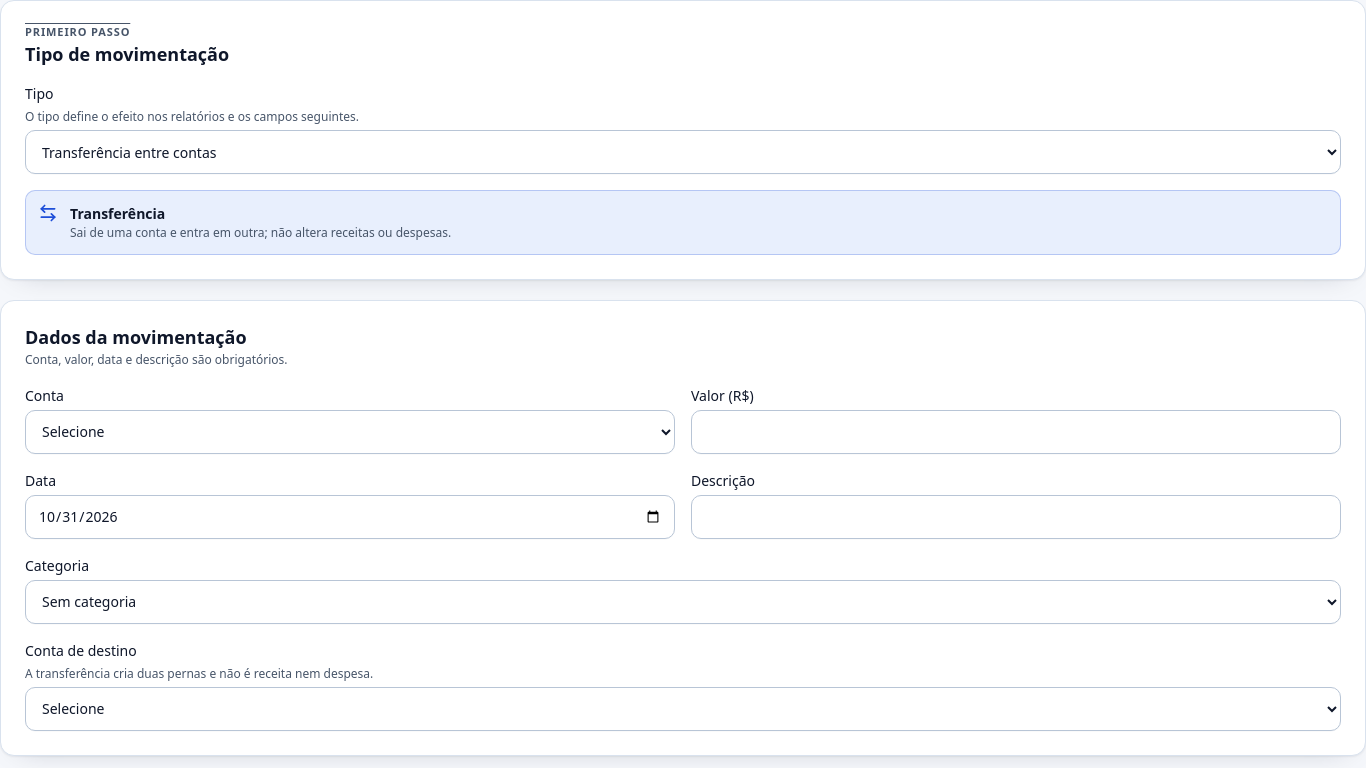
Scenario: formulário de lançamento manual › mostra o efeito esperado e revela campos condicionais
expect the text "Transferência" is shown: met, box [70,204,165,223]
expect the text "não altera receitas ou despesas" is shown: met, box [70,224,451,241]
Select "Ajuste" in the dropdown labelled "Tipo" at (683, 152), box [25,130,1341,174]
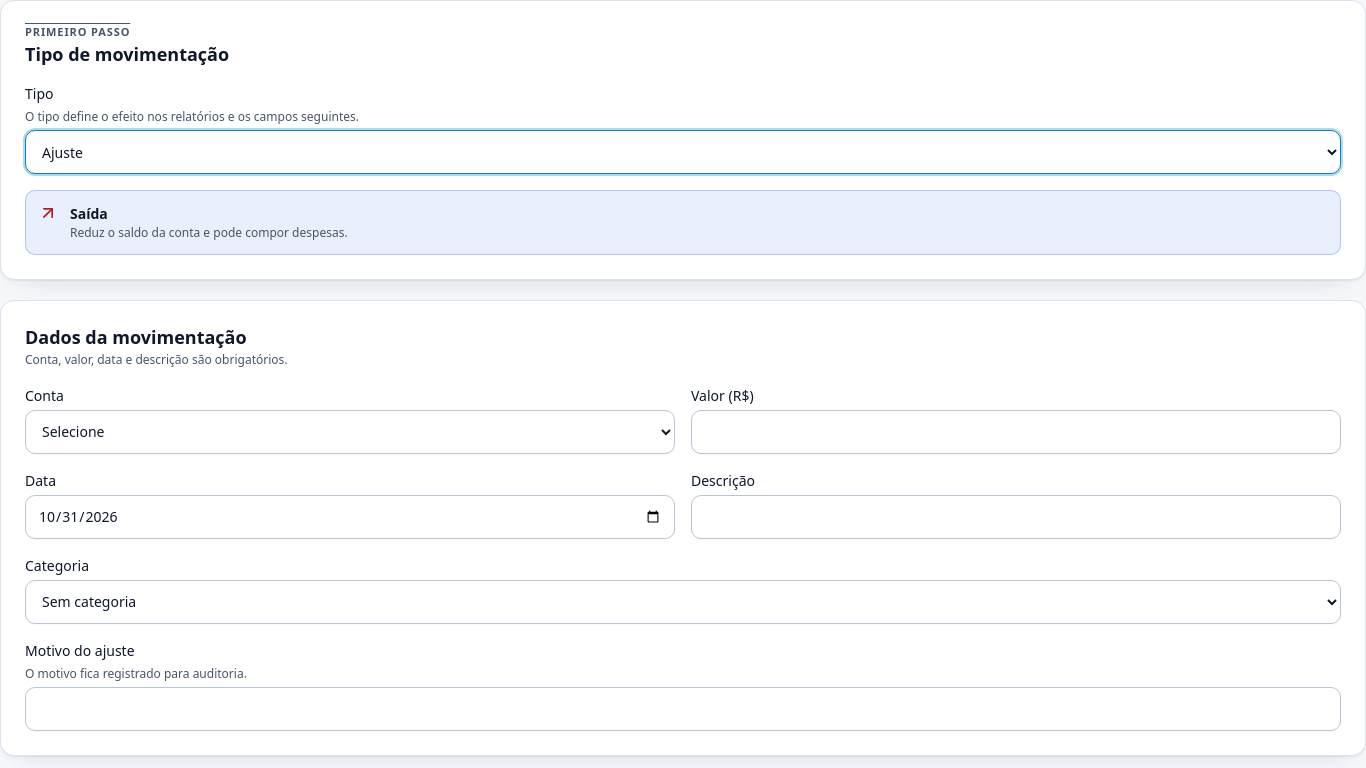
expect the field labelled "Motivo do ajuste" is shown: met, box [25,687,1341,731]
expect the label labelled "Conta de destino" is gone: met
